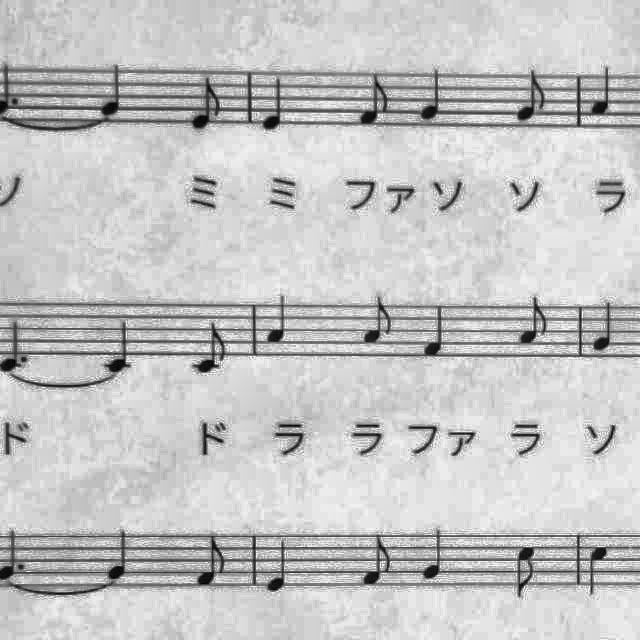Eighth-note: (184, 70, 230, 134), (190, 319, 234, 379), (190, 530, 232, 592), (351, 70, 393, 132), (510, 66, 550, 128), (356, 529, 396, 591), (511, 294, 553, 350), (356, 295, 396, 349), (512, 542, 542, 602)
Quarter-dot: (1, 316, 36, 376), (1, 527, 32, 583)
Quarter-note: (256, 72, 296, 134), (102, 316, 142, 374), (414, 62, 450, 126), (95, 60, 131, 122), (262, 534, 298, 596), (418, 526, 454, 586), (418, 303, 454, 361), (582, 538, 616, 598), (588, 296, 622, 356), (584, 60, 618, 120), (102, 528, 138, 584), (262, 294, 296, 348)
